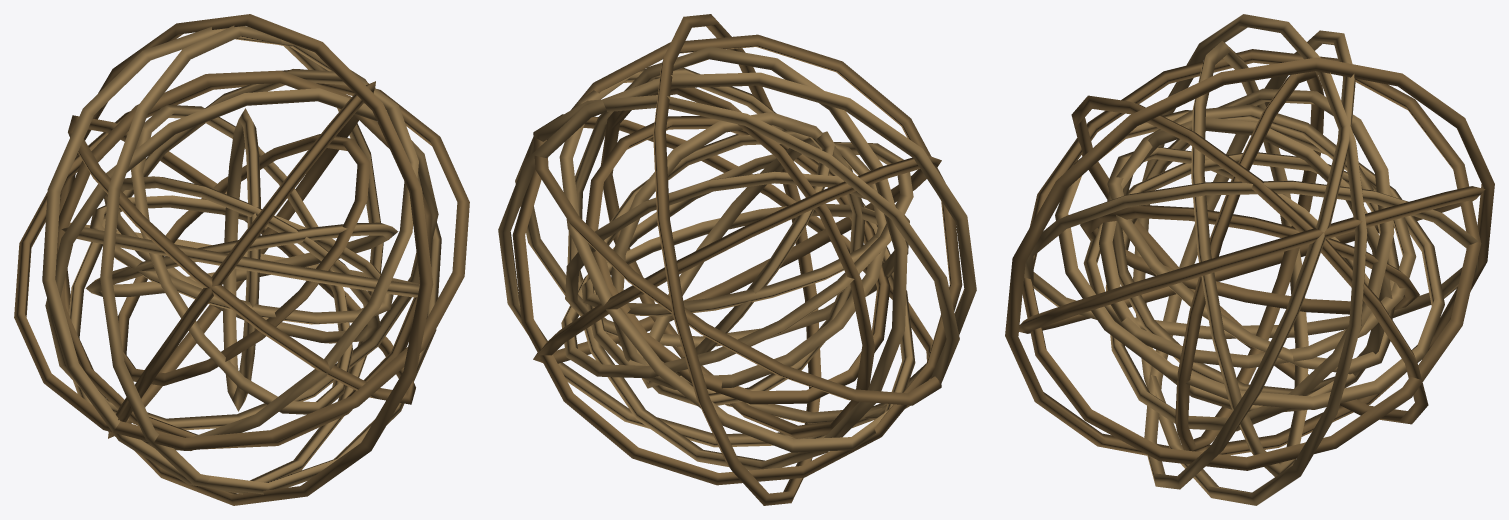
File: tumbleweed.glb
3 views of the same model, side by side, from view 1: azimuth 30°, elevation 25°; view 2: azimuth 150°, elevation 25°; view 3: azimuth 270°, elevation 25° (orthographic). The views are drawn at different scales.
Visible parts, largest first — view 1: TumbleweedMesh; view 2: TumbleweedMesh; view 3: TumbleweedMesh.
Part boxes in pixels (bbox=[...]): TumbleweedMesh: bbox=[14, 14, 469, 505]; TumbleweedMesh: bbox=[498, 14, 976, 505]; TumbleweedMesh: bbox=[1005, 14, 1494, 505].
Bounding box in the file's own units: 1.99 × 2 × 1.99.
